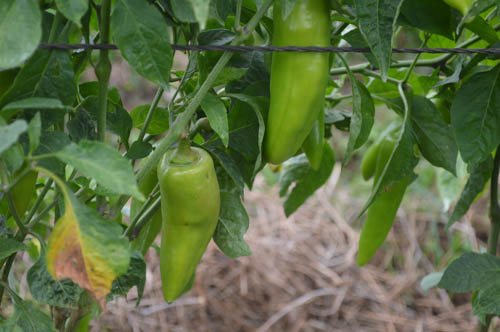ChiliPepper: (264, 5, 330, 172), (157, 156, 222, 304), (361, 136, 416, 268), (307, 122, 329, 173)
